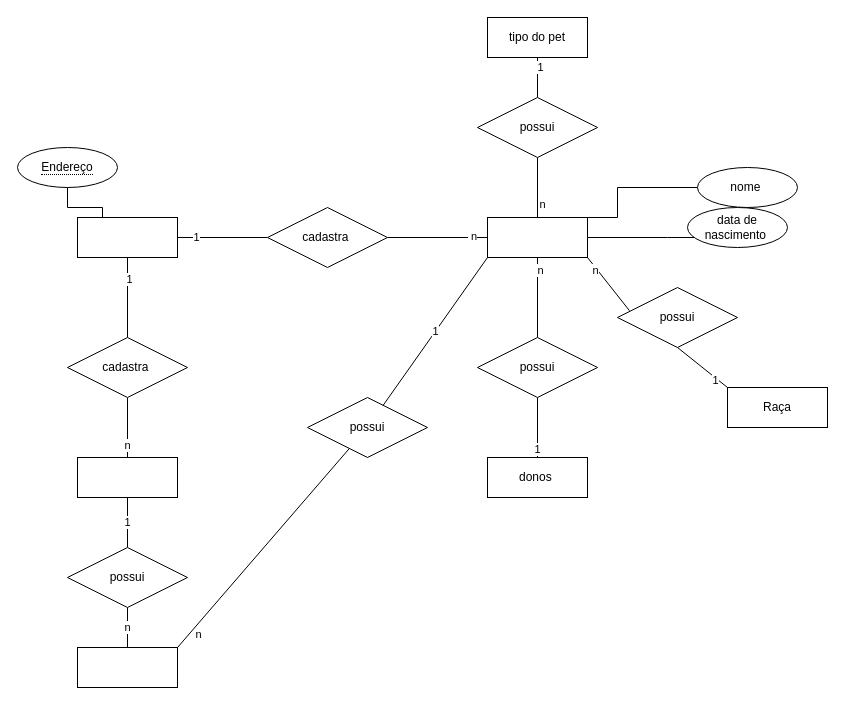
The diagram is 845 pixels wide and 705 high, and some of its shapes have lost their labels. Here are the shapes that lost their labels. From the top down, the box of each, then its label:
(76, 216, 178, 258): clinica
(486, 216, 588, 258): pets
(76, 456, 178, 498): veterinário
(76, 646, 178, 688): atendimento
